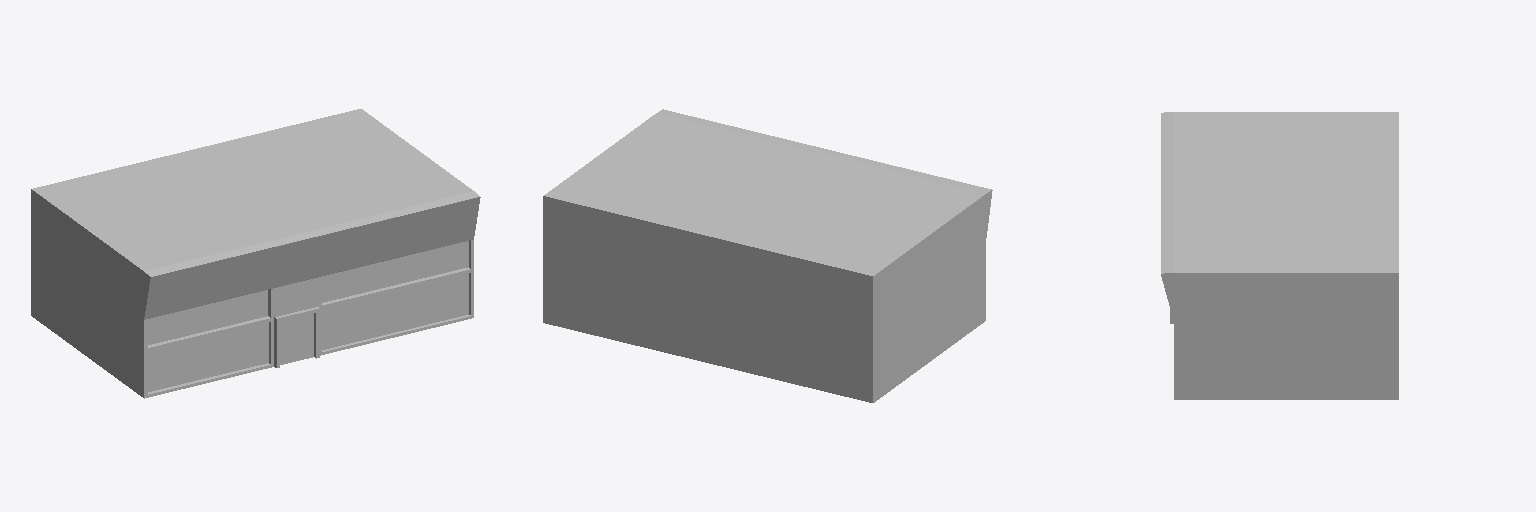
File: Gas Station Building 001.obj
3 renders of one model, left to right at view 1: azimuth 30°, elevation 25°; view 2: azimuth 150°, elevation 25°; view 3: azimuth 270°, elevation 25°, orthographic.
Parts seen in each view (by area): view 1: pCube45; view 2: pCube45; view 3: pCube45.
Part boxes in pixels (bbox=[...]): pCube45: bbox=[31, 109, 480, 398]; pCube45: bbox=[543, 109, 992, 402]; pCube45: bbox=[1161, 112, 1398, 399].
Size of the model in its own units: 1 by 0.368 by 0.6273.